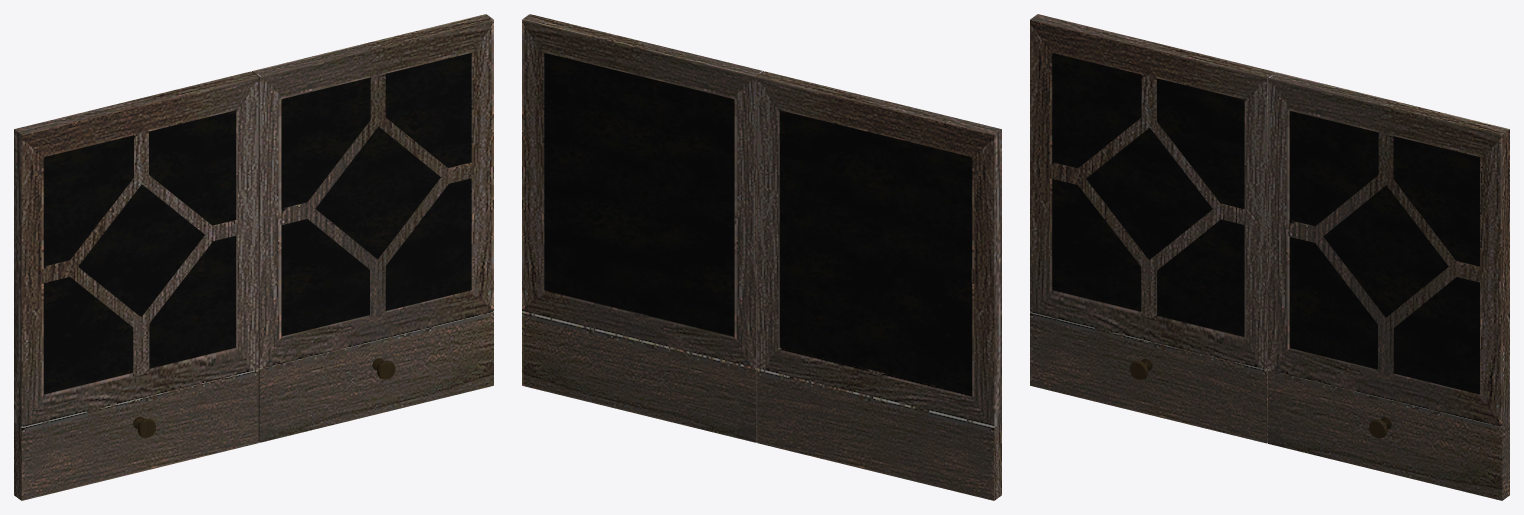
File: closet_nice_doors.dae
3 views of the same model, side by side, from view 1: azimuth 30°, elevation 25°; view 2: azimuth 150°, elevation 25°; view 3: azimuth 330°, elevation 25° (orthographic).
Parts seen in each view (by area): view 1: Plane_002, Plane_001, Plane_004, Plane; view 2: Plane_002, Plane_004, Plane, Plane_001; view 3: Plane_001, Plane_002, Plane_004, Plane.
Boxes of the visible parts, x1,y1,x2,y2 form: Plane_002: (14, 71, 258, 500); Plane_001: (252, 14, 493, 442); Plane_004: (44, 110, 236, 394); Plane: (282, 53, 471, 336); Plane_002: (757, 71, 1001, 500); Plane_004: (779, 110, 971, 394); Plane: (544, 53, 733, 336); Plane_001: (522, 14, 763, 442); Plane_001: (1268, 72, 1509, 500); Plane_002: (1030, 14, 1274, 443); Plane_004: (1052, 53, 1244, 336); Plane: (1290, 111, 1479, 394).
Size of the model in its own units: 1.14 by 0.0712 by 0.8424.
Materials: 2 (2 with a texture image).
